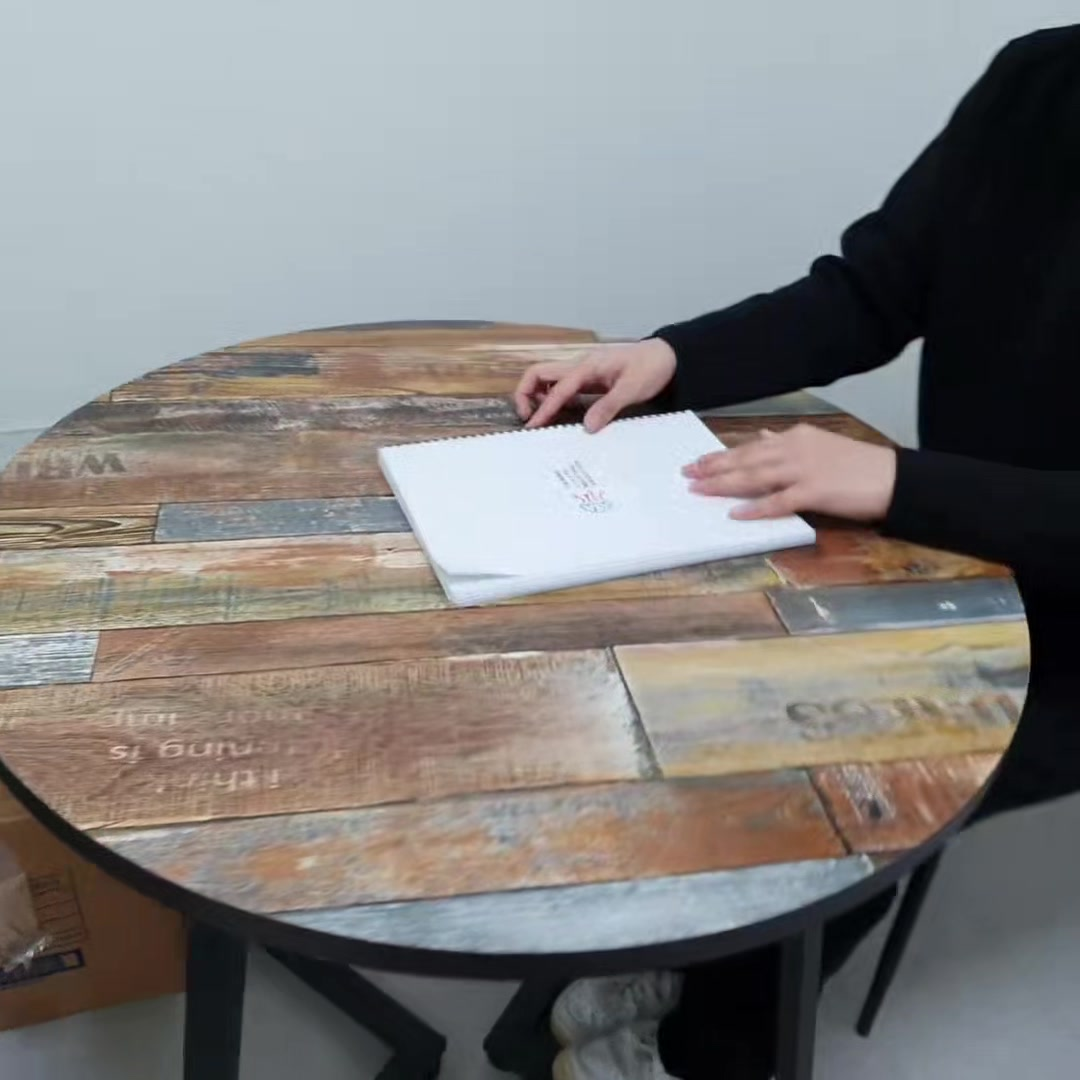book: (370, 410, 828, 610)
